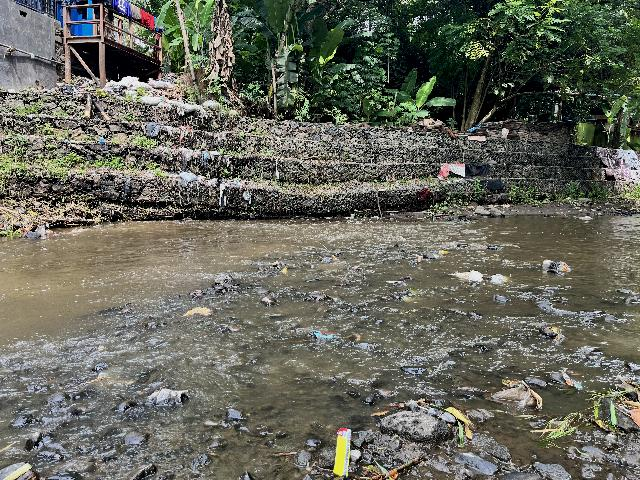Sampah Anorganik: (485, 378, 548, 416), (333, 425, 355, 480), (557, 366, 588, 396), (542, 257, 573, 277), (450, 268, 486, 284), (304, 327, 340, 342), (491, 273, 510, 285), (435, 250, 450, 255)
